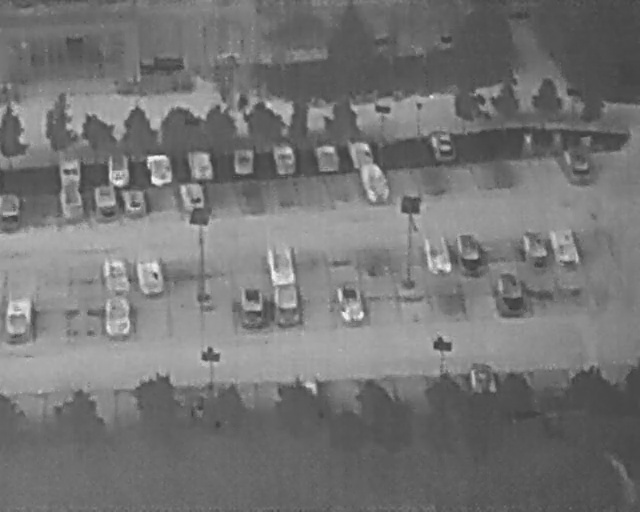Car: (1, 293, 36, 347), (494, 268, 528, 319), (356, 161, 394, 206), (132, 253, 168, 299), (557, 141, 594, 184), (334, 280, 367, 326), (421, 231, 454, 277), (519, 226, 552, 271), (547, 224, 580, 269), (265, 242, 298, 285), (453, 231, 484, 274), (272, 283, 301, 328), (103, 294, 131, 339), (176, 177, 209, 215), (344, 135, 376, 172), (101, 254, 132, 292), (56, 183, 87, 220), (91, 183, 122, 220), (239, 284, 265, 328), (271, 141, 300, 180), (144, 151, 175, 186), (186, 147, 217, 182), (429, 125, 457, 162), (314, 142, 343, 177), (106, 151, 133, 188), (121, 186, 149, 220), (56, 156, 83, 191), (0, 190, 23, 223), (234, 145, 256, 175)
